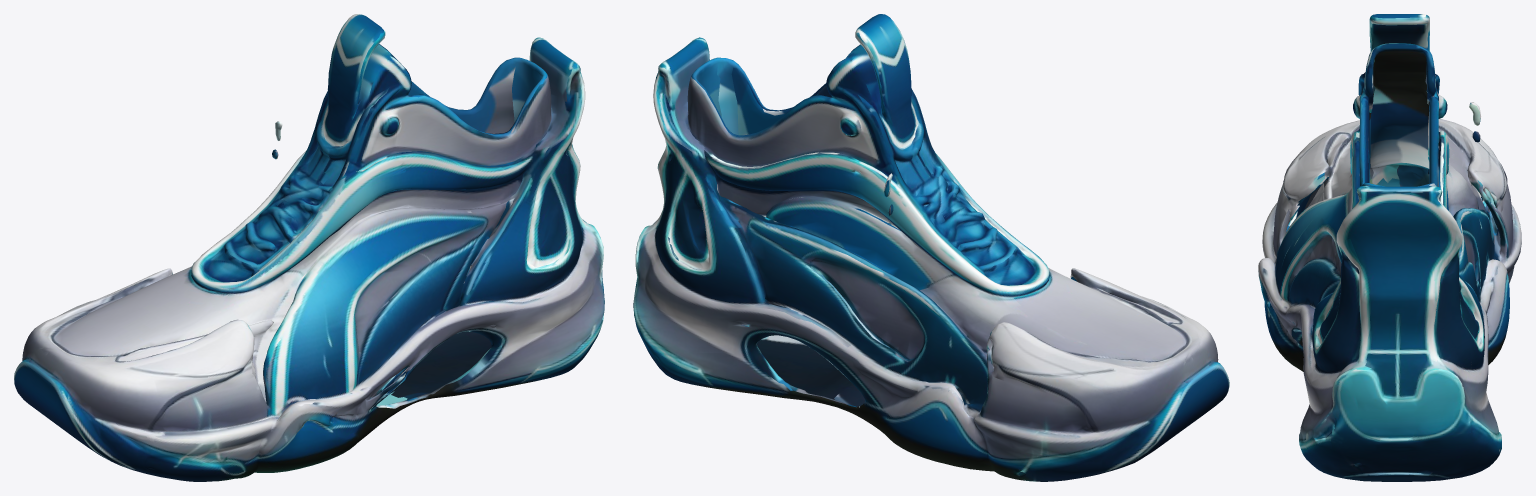
File: court-high.glb
The picture shows the model from 3 angles, left to right: view 1: azimuth 30°, elevation 25°; view 2: azimuth 150°, elevation 25°; view 3: azimuth 270°, elevation 25°; orthographic projection. The views are drawn at different scales.
Visible parts, largest first — view 1: Sneaker; view 2: Sneaker; view 3: Sneaker.
Boxes of the visible parts, left/top/right/bottom form: Sneaker: left=14, top=14, right=604, bottom=481; Sneaker: left=633, top=14, right=1229, bottom=481; Sneaker: left=1258, top=14, right=1521, bottom=481.
Size of the model in its own units: 0.4552 by 0.32 by 0.1846.
1 material, 1 textured.
